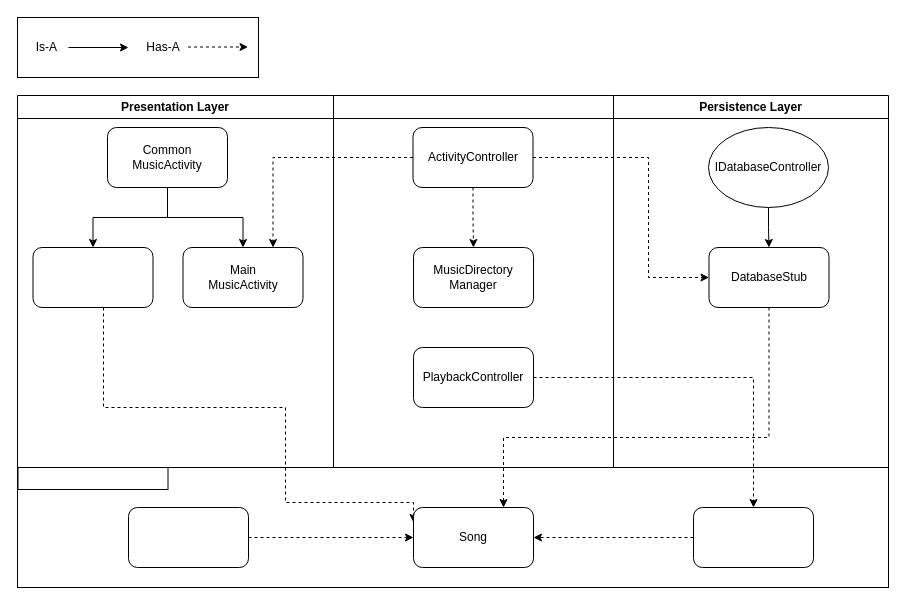
Some shapes in this 906 by 605 pixel diagram are drawn without their labels. Here are the shapes that lost their labels. From the top down, the box of each, then its label:
(32, 246, 153, 308): NowPlaying MusicActivity
(332, 94, 614, 468): Logic Layer
(17, 466, 168, 490): Domain Specific Objects
(128, 506, 248, 568): Playlist
(692, 506, 814, 568): PlaybackQueue
